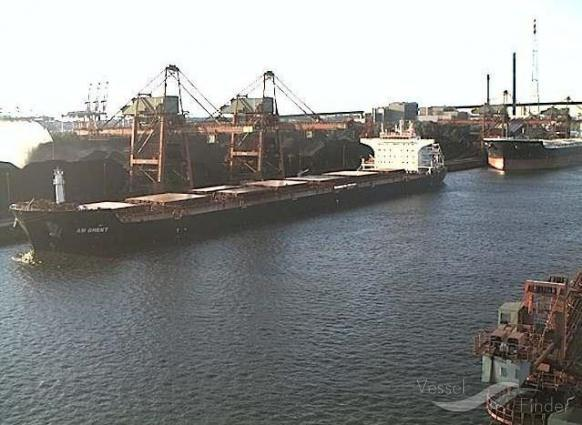OCR: (67, 220, 117, 235)
